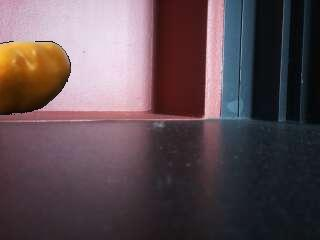Potato: (0, 40, 71, 116)
